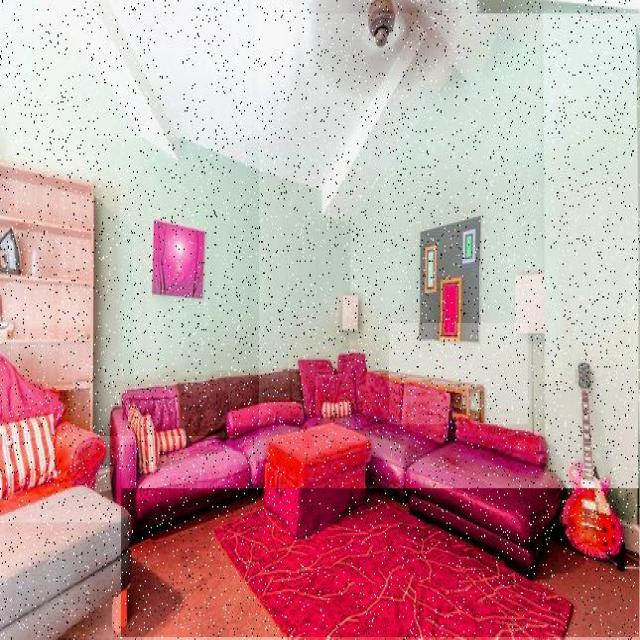Wall: (0, 13, 640, 522), (110, 0, 494, 220), (121, 489, 640, 637), (94, 139, 259, 436), (0, 0, 179, 161), (390, 323, 528, 424), (478, 1, 640, 33), (67, 605, 113, 639)
